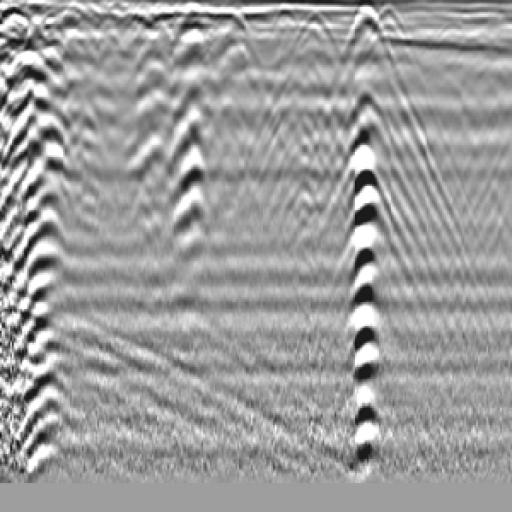metalic: (147, 41, 229, 260)
